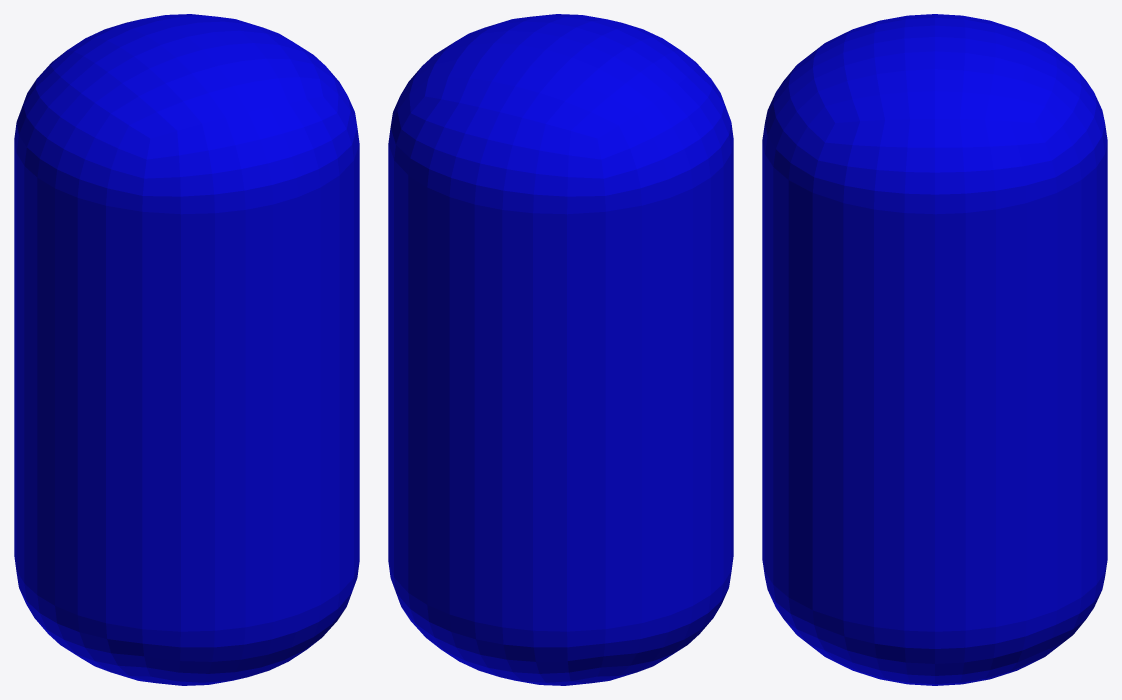
File: guard.glb
The picture shows the model from 3 angles, left to right: view 1: azimuth 30°, elevation 25°; view 2: azimuth 150°, elevation 25°; view 3: azimuth 270°, elevation 25°; orthographic projection.
Parts seen in each view (by area): view 1: Roundcube; view 2: Roundcube; view 3: Roundcube.
Part boxes in pixels (x1,y1,x2,y2): Roundcube: [14, 14, 359, 685]; Roundcube: [388, 14, 733, 685]; Roundcube: [762, 14, 1107, 685].
Bounding box in the file's own units: 0.5 × 1 × 0.5.
